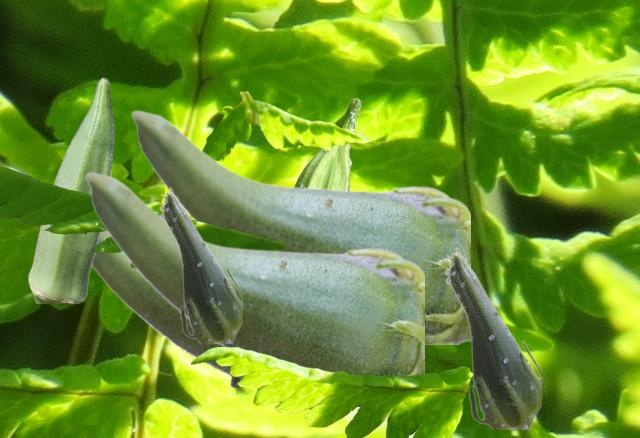okra: (130, 109, 469, 343), (84, 171, 423, 405), (92, 232, 240, 386), (28, 77, 113, 302), (444, 247, 540, 428), (159, 187, 241, 342), (294, 98, 360, 188)
